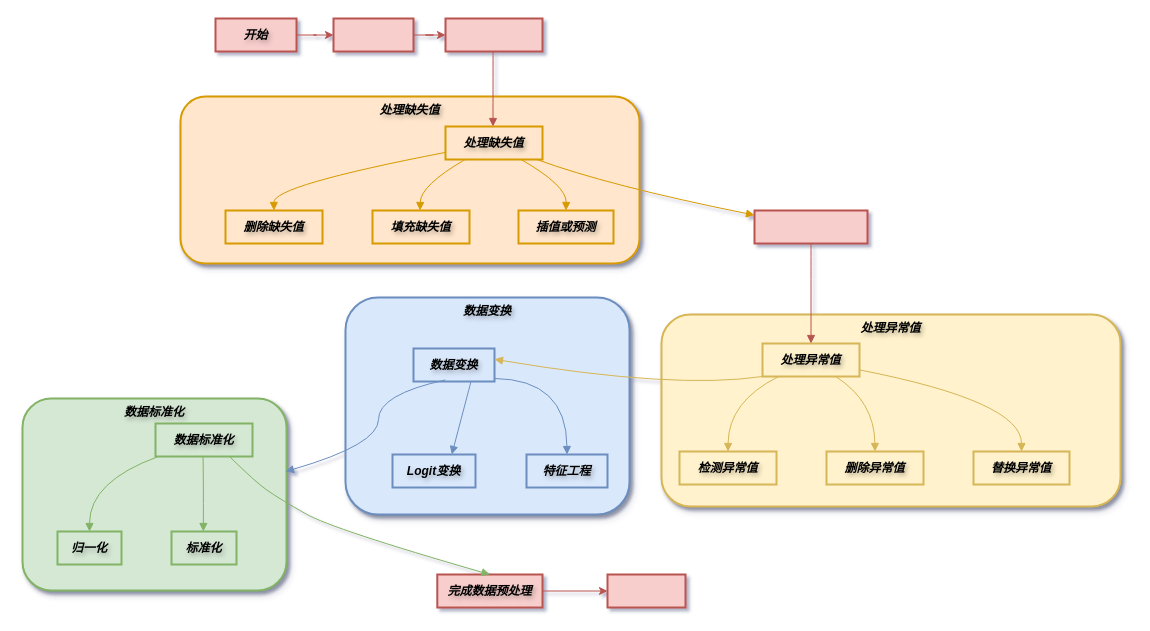
Some shapes in this 1150 by 631 pixel diagram are drawn without their labels. The centre of each missing label's shape, as x and y in pixels:
处理重复数据: point 810,226
数据导入: point 373,34
检查缺失值: point 493,34
结束: point 646,590
